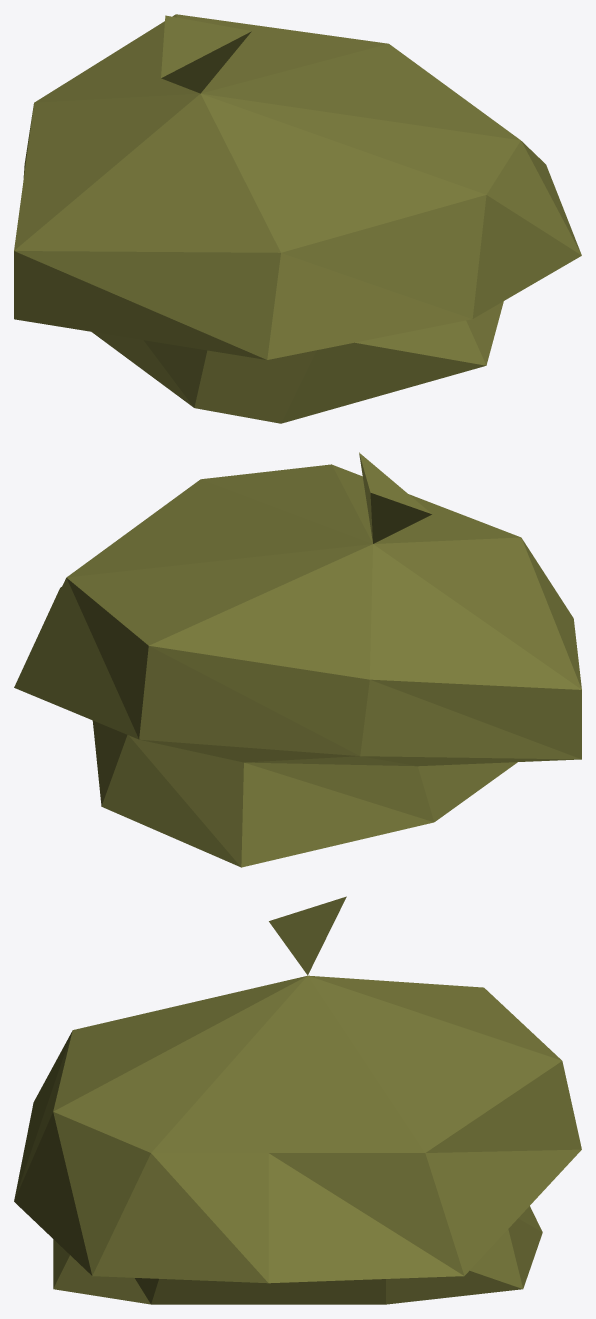
Rendered from inv_berret_3.obj.
3 renders of one model, top to bottom at view 1: azimuth 30°, elevation 25°; view 2: azimuth 150°, elevation 25°; view 3: azimuth 270°, elevation 25°, orthographic. The views are drawn at different scales.
Bounding box in the file's own units: 0.25 × 0.1406 × 0.2266.
